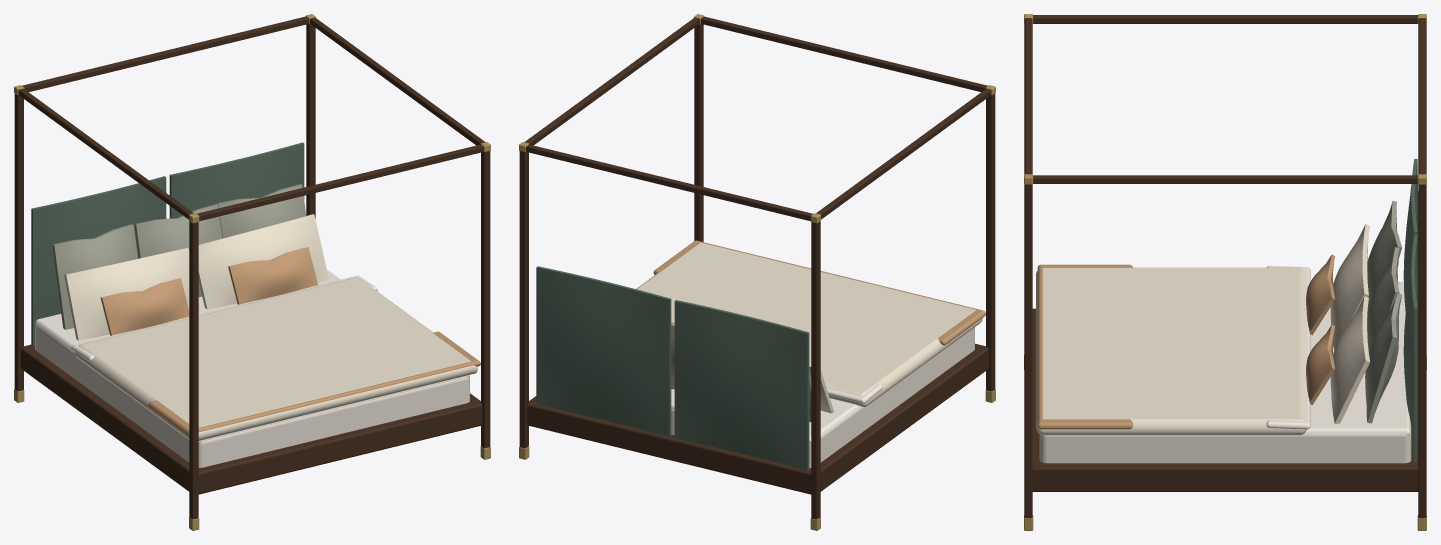
The model's file is atelier-bed-canopy-king.glb.
The picture shows the model from 3 angles, left to right: view 1: azimuth 30°, elevation 25°; view 2: azimuth 150°, elevation 25°; view 3: azimuth 270°, elevation 25°; orthographic projection. The views are drawn at different scales.
Bounding box in the file's own units: 2.12 × 2.13 × 2.2.
